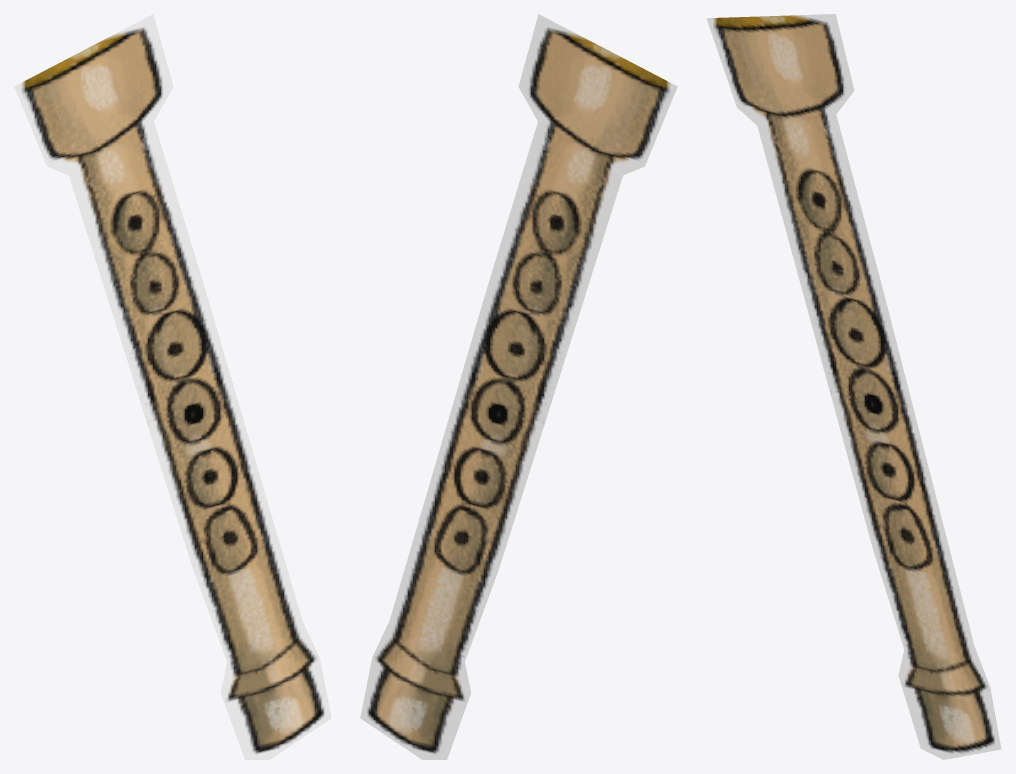
File: pistala_2.glb
The picture shows the model from 3 angles, left to right: view 1: azimuth 30°, elevation 25°; view 2: azimuth 150°, elevation 25°; view 3: azimuth 330°, elevation 25°; orthographic projection. The views are drawn at different scales.
Visible parts, largest first — view 1: Plane.004; view 2: Plane.004; view 3: Plane.004.
Boxes of the visible parts, box(x1,y1,x2,y2) form: Plane.004: box(14, 14, 331, 759); Plane.004: box(360, 14, 677, 759); Plane.004: box(706, 14, 1001, 759).
Bounding box in the file's own units: 3.13 × 7.29 × 0.
1 material, 1 textured.
